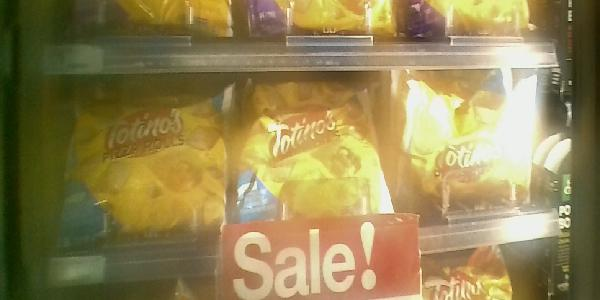icecream: (55, 64, 229, 260), (233, 76, 395, 262), (387, 81, 547, 240)
